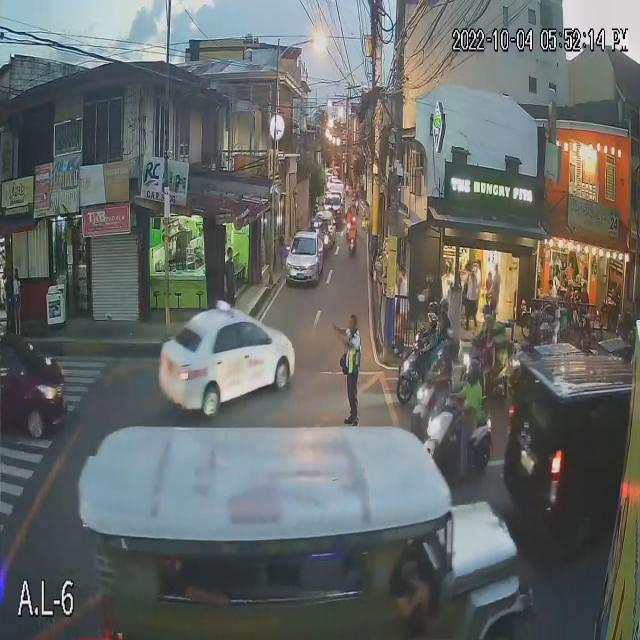helmet: (465, 362, 484, 384), (423, 312, 440, 330), (439, 357, 454, 374), (480, 314, 495, 328)
motorcycle: (408, 408, 494, 481), (458, 352, 520, 398), (396, 352, 448, 405), (407, 380, 438, 427), (346, 234, 359, 260)
rider: (453, 382, 484, 482), (475, 322, 505, 397), (435, 374, 450, 411), (425, 331, 438, 372), (346, 216, 359, 244)
